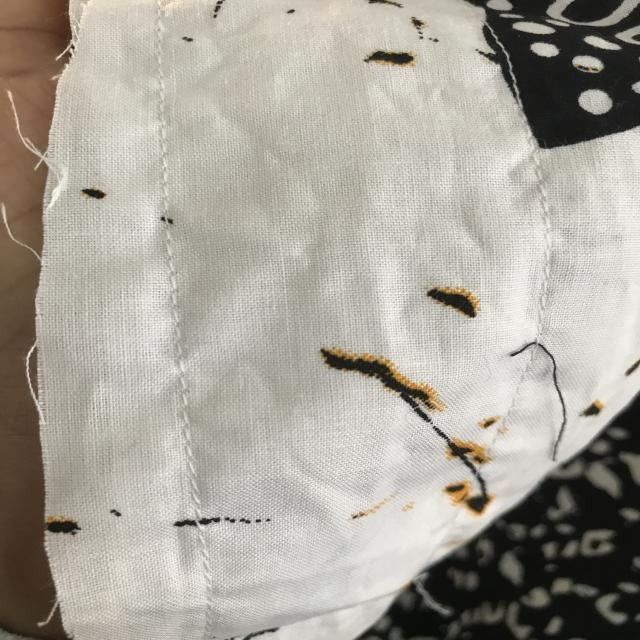good: (163, 394, 216, 467)
